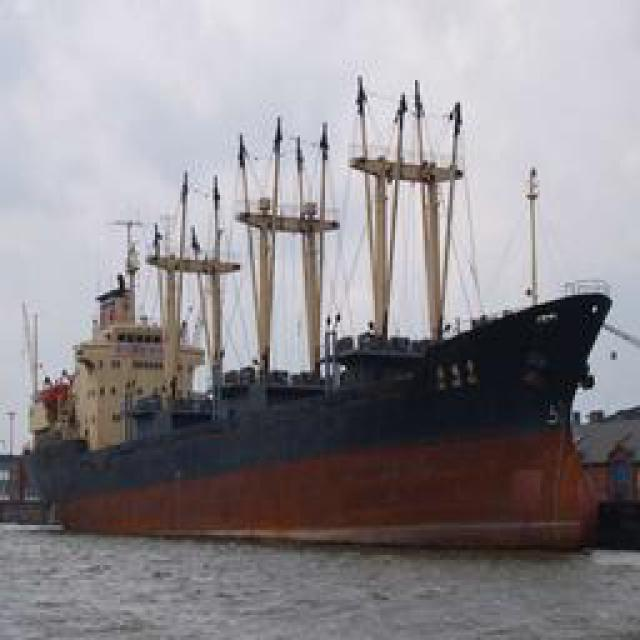Ship: (30, 61, 625, 546)
